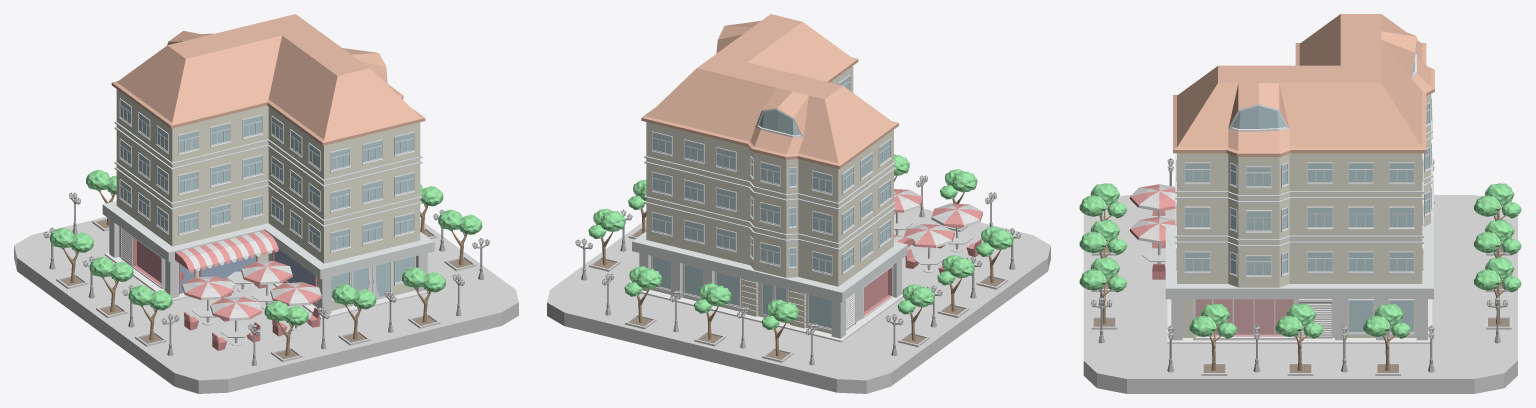
File: casa mare copaci.fbx
The picture shows the model from 3 angles, left to right: view 1: azimuth 30°, elevation 25°; view 2: azimuth 150°, elevation 25°; view 3: azimuth 270°, elevation 25°; orthographic projection. The views are drawn at different scales.
Parts seen in each view (by area): view 1: scena:Low_Poly_Building:Building_facad, scena:Low_Poly_Building:Platform, scena:Low_Poly_Building:shed1, scena:Low_Poly_Building:shed, scena:Low_Poly_Building:showcase, scena:Low_Poly_Building:Cube_24_2, scena:Low_Poly_Building:Cube_19_2, scena:Low_Poly_Building:Cube_18_2, scena:Low_Poly_Building:Disc_2_2, scena:Low_Poly_Building:Disc_6, scena:Low_Poly_Building:Disc_8, scena:Low_Poly_Building:Disc_7 (+6 smaller); view 2: scena:Low_Poly_Building:Building_facad, scena:Low_Poly_Building:Platform, scena:Low_Poly_Building:showcase, scena:Low_Poly_Building:Cube_22_2, scena:Low_Poly_Building:Disc_6, scena:Low_Poly_Building:Cube_12, scena:Low_Poly_Building:Disc_5, scena:Low_Poly_Building:Disc_8, scena:Low_Poly_Building:Disc_7, scena:Low_Poly_Building:Cube_7_2, scena:Low_Poly_Building:Cube_8_26, scena:Low_Poly_Building:Sphere_18 (+2 smaller); view 3: scena:Low_Poly_Building:Building_facad, scena:Low_Poly_Building:Platform, scena:Low_Poly_Building:showcase1, scena:Low_Poly_Building:blinds_2, scena:Low_Poly_Building:Cube_10_2, scena:Low_Poly_Building:Disc_5, scena:Low_Poly_Building:Disc_6, scena:Low_Poly_Building:Disc_4, scena:Low_Poly_Building:Cube_2_3, scena:Low_Poly_Building:glass_16, scena:Low_Poly_Building:glass_59, scena:Low_Poly_Building:glass_50 (+34 smaller).
Boxes of the visible parts, x1,y1,x2,y2 form: scena:Low_Poly_Building:Building_facad: (102,14,434,319); scena:Low_Poly_Building:Platform: (14,217,518,393); scena:Low_Poly_Building:shed1: (175,230,278,272); scena:Low_Poly_Building:shed: (181,231,273,271); scena:Low_Poly_Building:showcase: (131,236,165,288); scena:Low_Poly_Building:Cube_24_2: (353,262,390,297); scena:Low_Poly_Building:Cube_19_2: (274,249,314,285); scena:Low_Poly_Building:Cube_18_2: (201,254,256,278); scena:Low_Poly_Building:Disc_2_2: (241,261,292,295); scena:Low_Poly_Building:Disc_6: (210,297,261,331); scena:Low_Poly_Building:Disc_8: (182,276,233,310); scena:Low_Poly_Building:Disc_7: (183,276,233,299); scena:Low_Poly_Building:Building_facad: (632,14,907,342); scena:Low_Poly_Building:Platform: (547,207,1050,393); scena:Low_Poly_Building:showcase: (856,265,893,318); scena:Low_Poly_Building:Cube_22_2: (809,295,831,328); scena:Low_Poly_Building:Disc_6: (931,203,981,238); scena:Low_Poly_Building:Cube_12: (831,300,845,338); scena:Low_Poly_Building:Disc_5: (932,203,982,227); scena:Low_Poly_Building:Disc_8: (905,224,953,258); scena:Low_Poly_Building:Disc_7: (904,224,954,247); scena:Low_Poly_Building:Cube_7_2: (684,264,702,296); scena:Low_Poly_Building:Cube_8_26: (716,272,739,305); scena:Low_Poly_Building:Sphere_18: (600,211,625,231); scena:Low_Poly_Building:Building_facad: (1165,14,1434,343); scena:Low_Poly_Building:Platform: (1083,195,1517,393); scena:Low_Poly_Building:showcase1: (1193,299,1296,340); scena:Low_Poly_Building:blinds_2: (1299,299,1332,338); scena:Low_Poly_Building:Cube_10_2: (1349,301,1373,331); scena:Low_Poly_Building:Disc_5: (1129,184,1175,211); scena:Low_Poly_Building:Disc_6: (1131,184,1175,216); scena:Low_Poly_Building:Disc_4: (1131,216,1175,255); scena:Low_Poly_Building:Cube_2_3: (1416,299,1427,340); scena:Low_Poly_Building:glass_16: (1185,252,1209,271); scena:Low_Poly_Building:glass_59: (1246,211,1270,230); scena:Low_Poly_Building:glass_50: (1308,252,1332,271).
Size of the model in its own units: 48.23 by 30.74 by 48.41.
